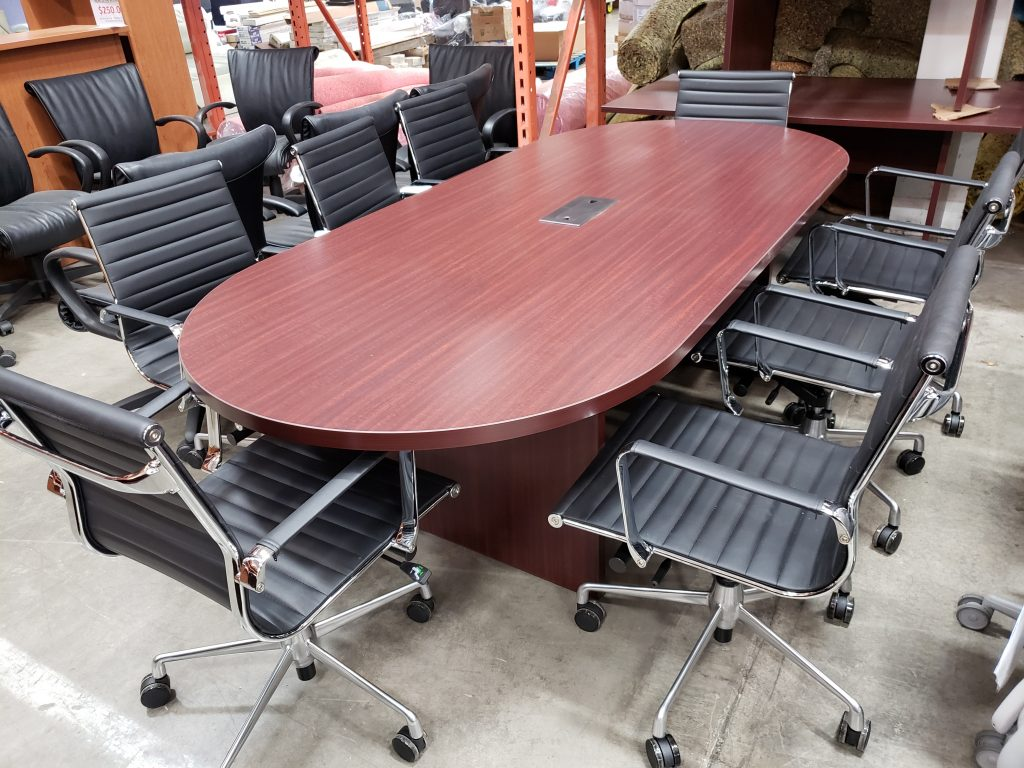conference_table: (179, 119, 850, 597), (602, 70, 1024, 219)
